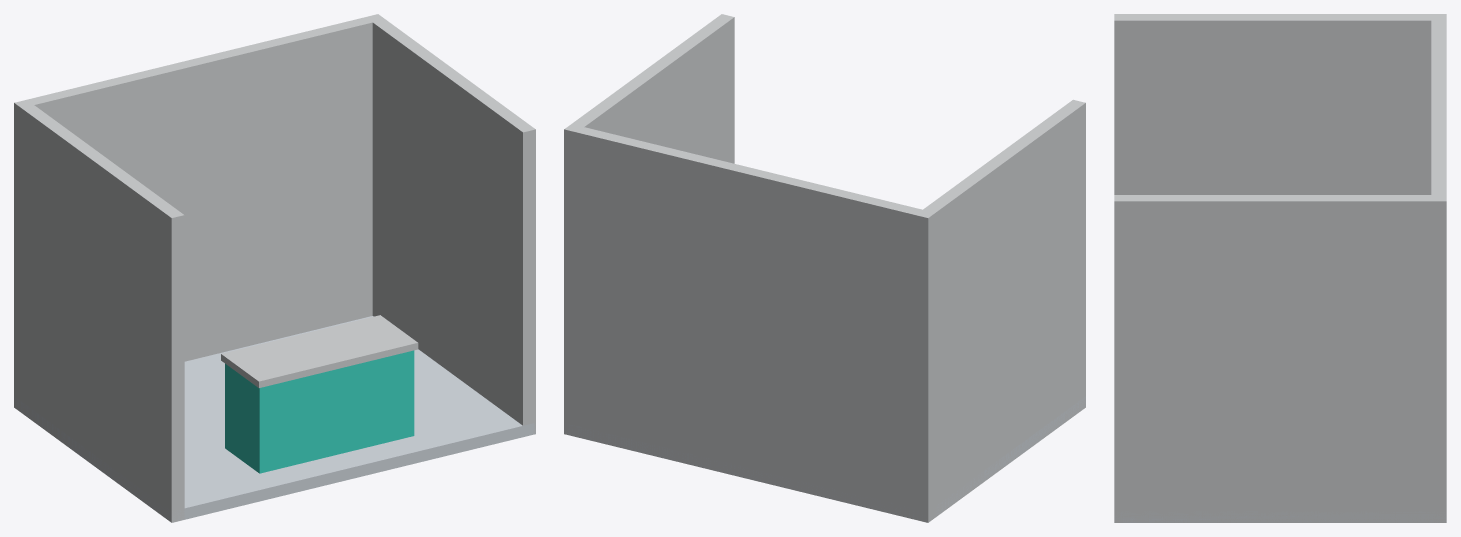
3 renders of one model, left to right at view 1: azimuth 30°, elevation 25°; view 2: azimuth 150°, elevation 25°; view 3: azimuth 270°, elevation 25°, orthographic. The views are drawn at different scales.
Parts seen in each view (by area): view 1: Exhibition Booth Concept; view 2: Exhibition Booth Concept; view 3: Exhibition Booth Concept.
Boxes of the visible parts, left/top/right/bottom form: Exhibition Booth Concept: left=14, top=14, right=535, bottom=522; Exhibition Booth Concept: left=564, top=14, right=1085, bottom=522; Exhibition Booth Concept: left=1114, top=14, right=1446, bottom=522.
Size of the model in its own units: 4 by 3.2 by 3.
